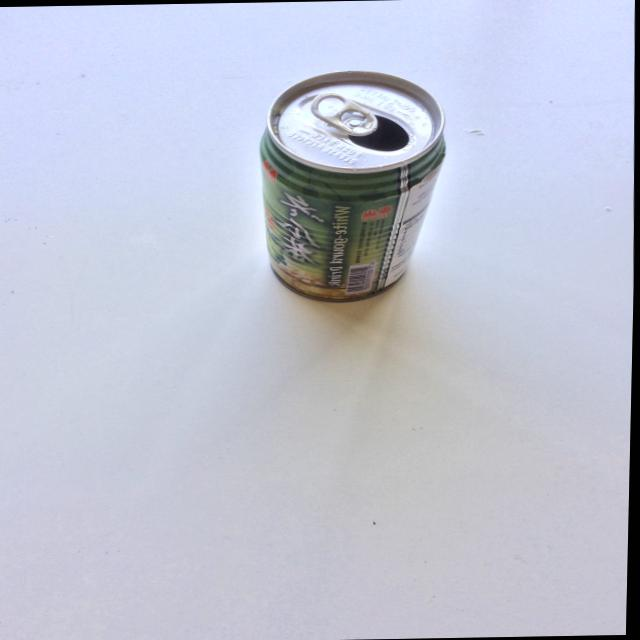Can-Metal: (223, 55, 462, 317)
